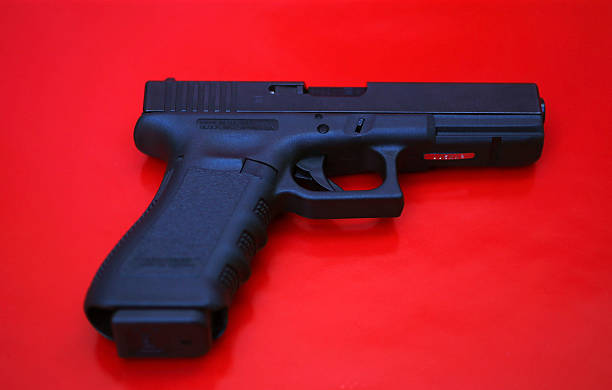pistol: (82, 75, 549, 366)
